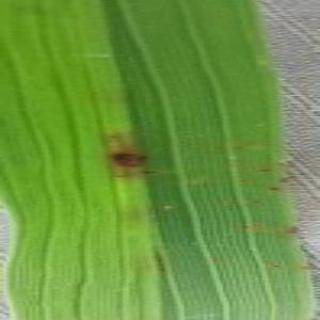bercak-Cokelat: (112, 153, 143, 166)
